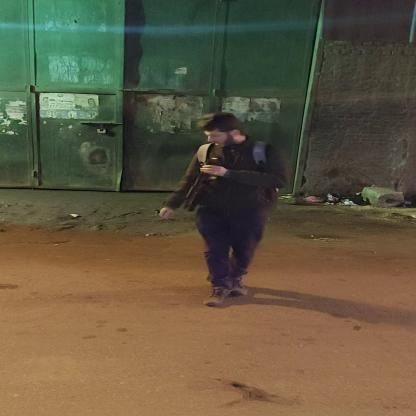long weapon: (172, 152, 226, 214)
